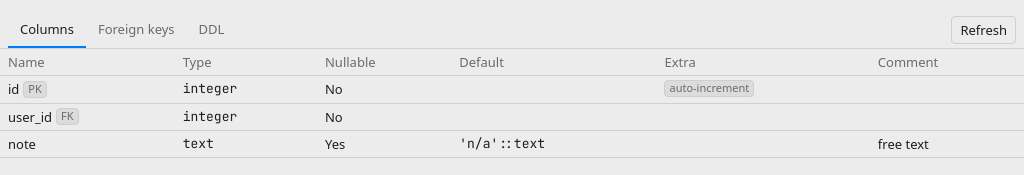
a DDL error does not hide the structure
What coordinates should you click on to do the following:
click the tab "DDL"
I would click on:
 (212, 30)
Its box is [187, 12, 236, 48].
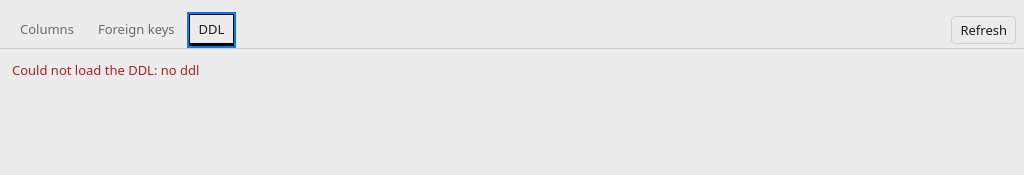
What coordinates should you click on to do the following:
click the tab "Columns"
I would click on:
 (47, 30)
Its box is [8, 12, 86, 48].
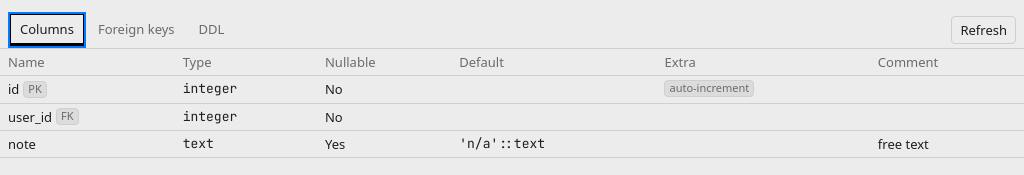
Expected: the table named "Columns" is shown
